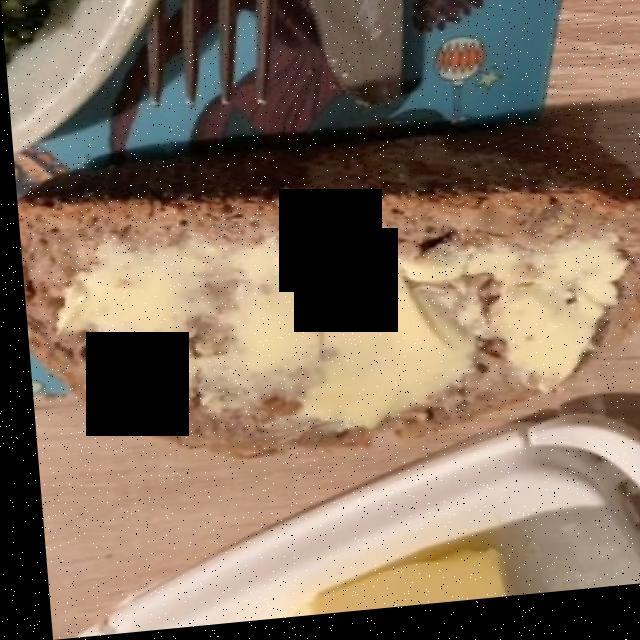bread: (21, 140, 629, 460)
butter: (76, 234, 628, 446)
